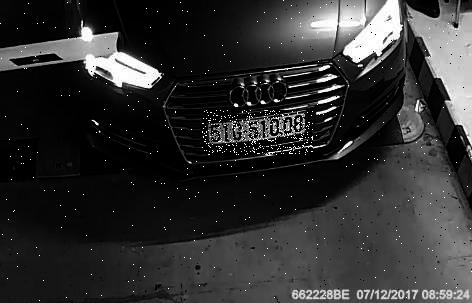License-plate: (204, 112, 315, 157)
